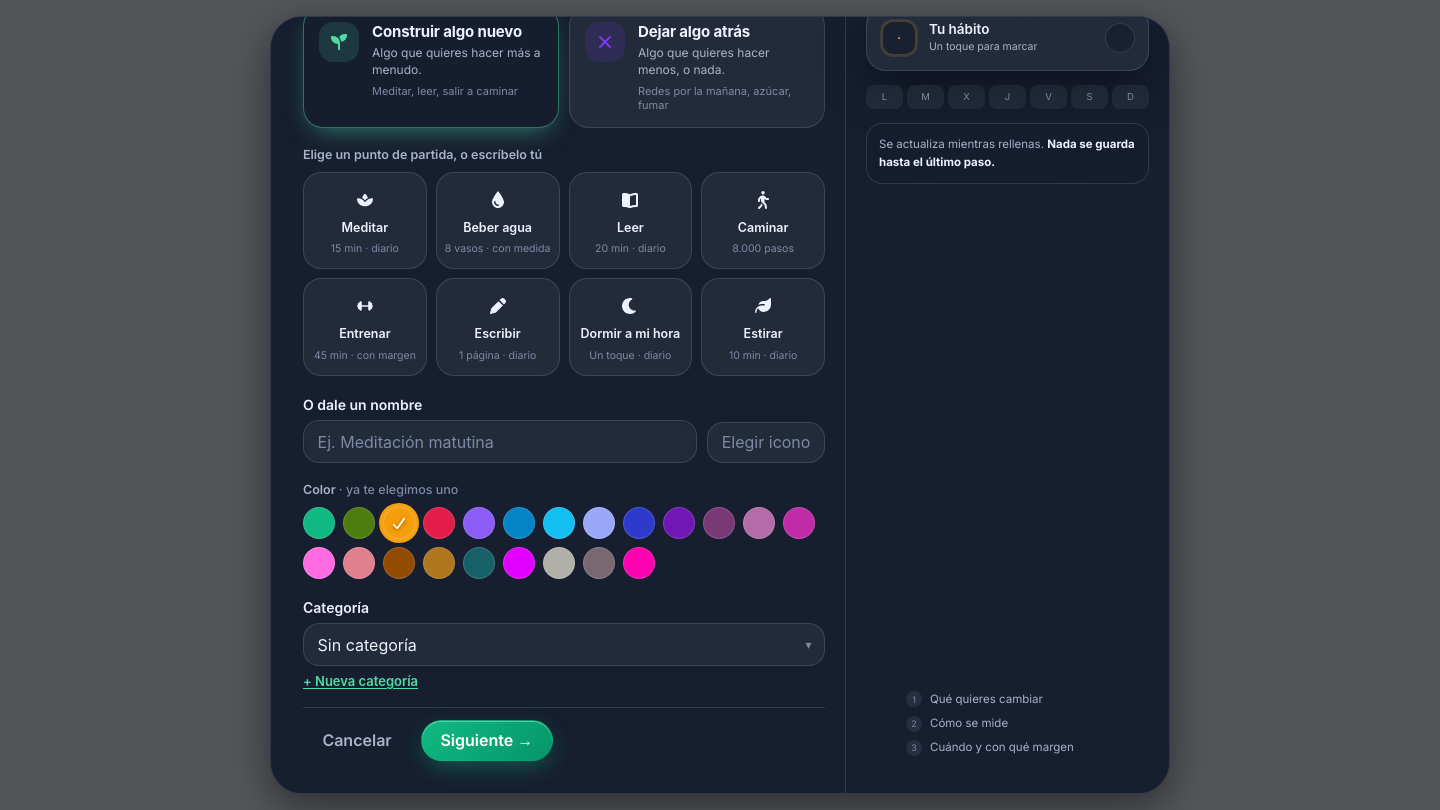
HabitFormModal — crear › pide el nombre y nada más para avanzar
This screenshot has width=1440, height=810.
(page scrolled)
Click the button "Siguiente →" at (487, 740), box top-left (421, 720), bottom-right (553, 760)
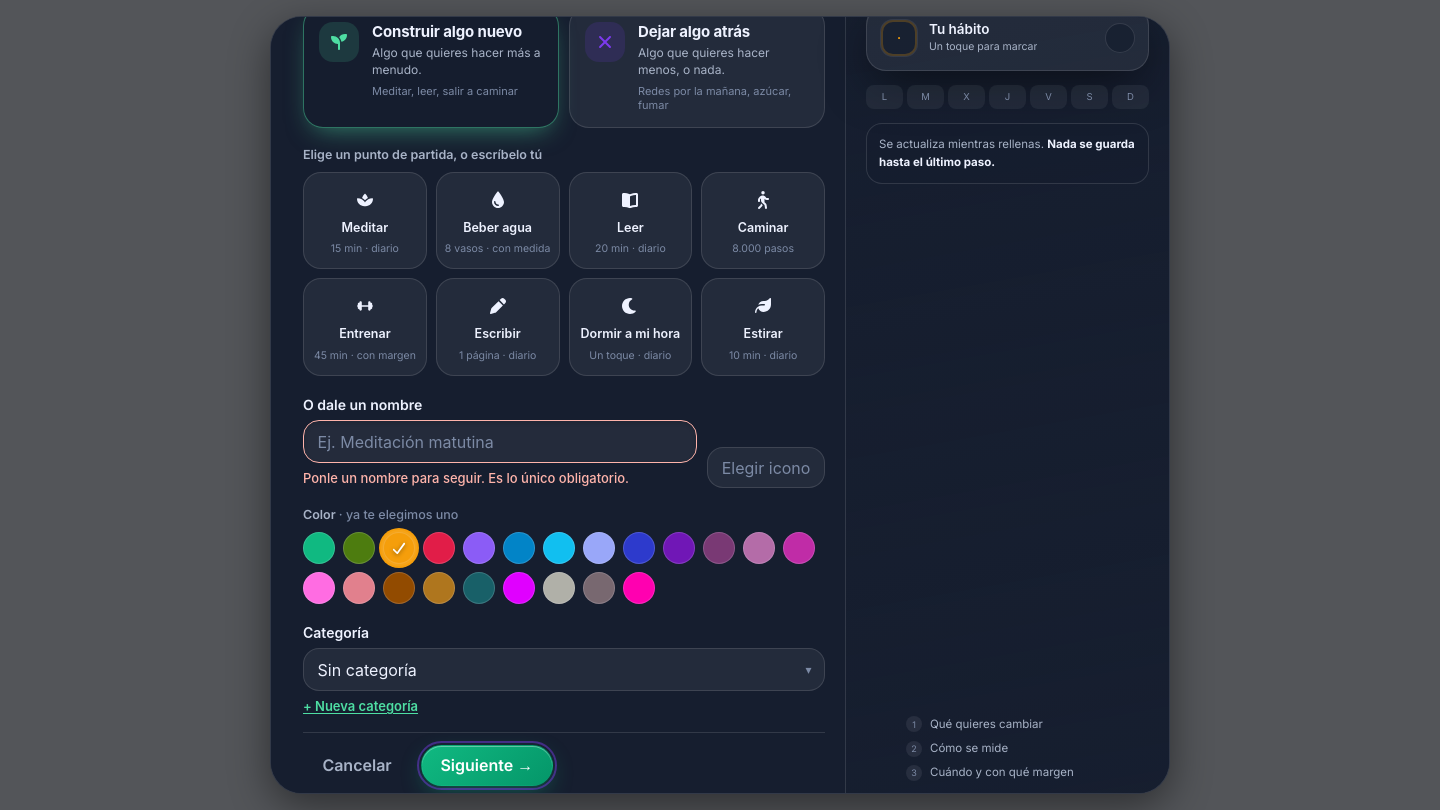
Expected: the text "Ponle un nombre para seguir. Es lo único obligatorio." is shown, top-left (303, 470), bottom-right (629, 486)
Type "Meditar" into the field labelled "O dale un nombre" at (500, 442), box top-left (303, 420), bottom-right (697, 463)
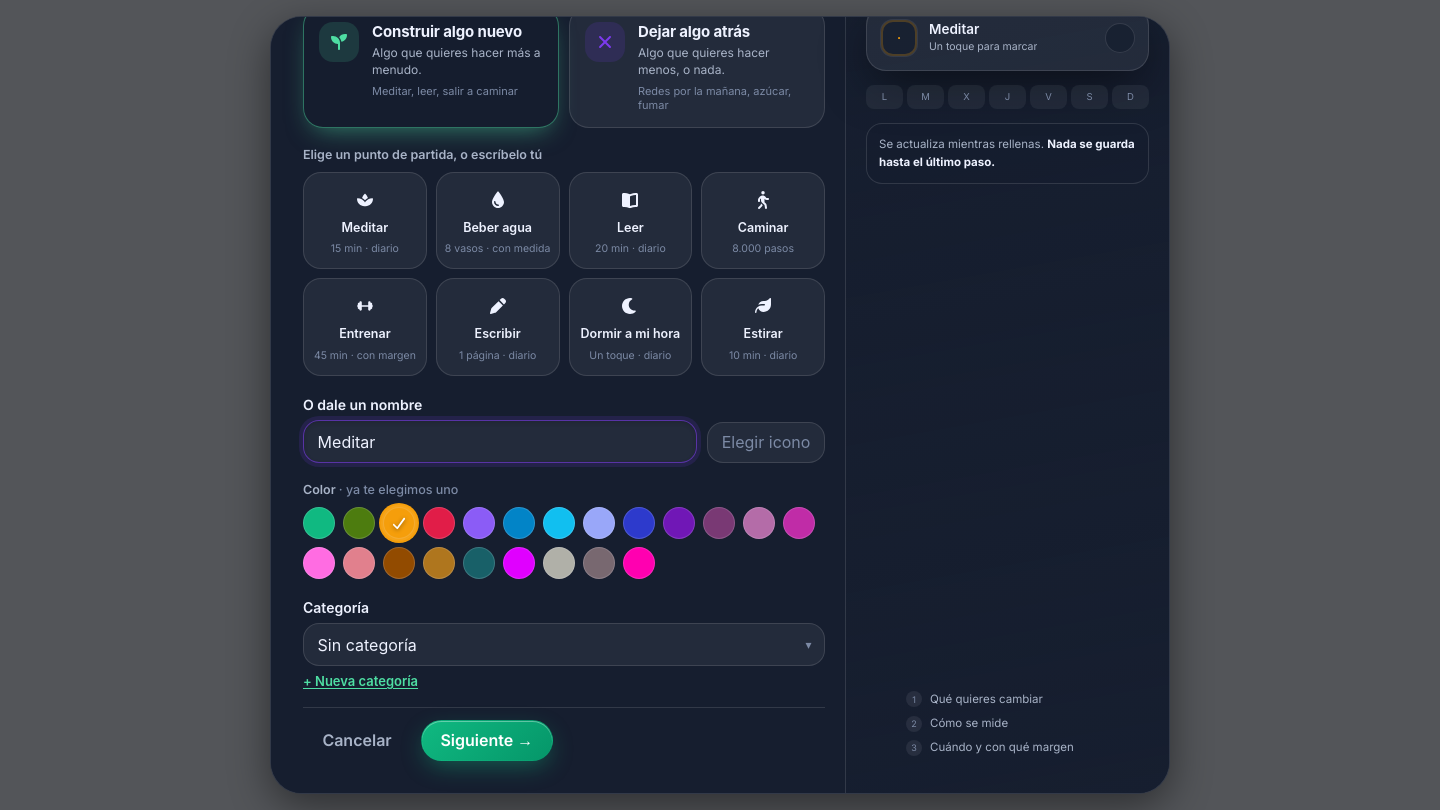
Click the button "Siguiente →" at (487, 740), box top-left (421, 720), bottom-right (553, 760)
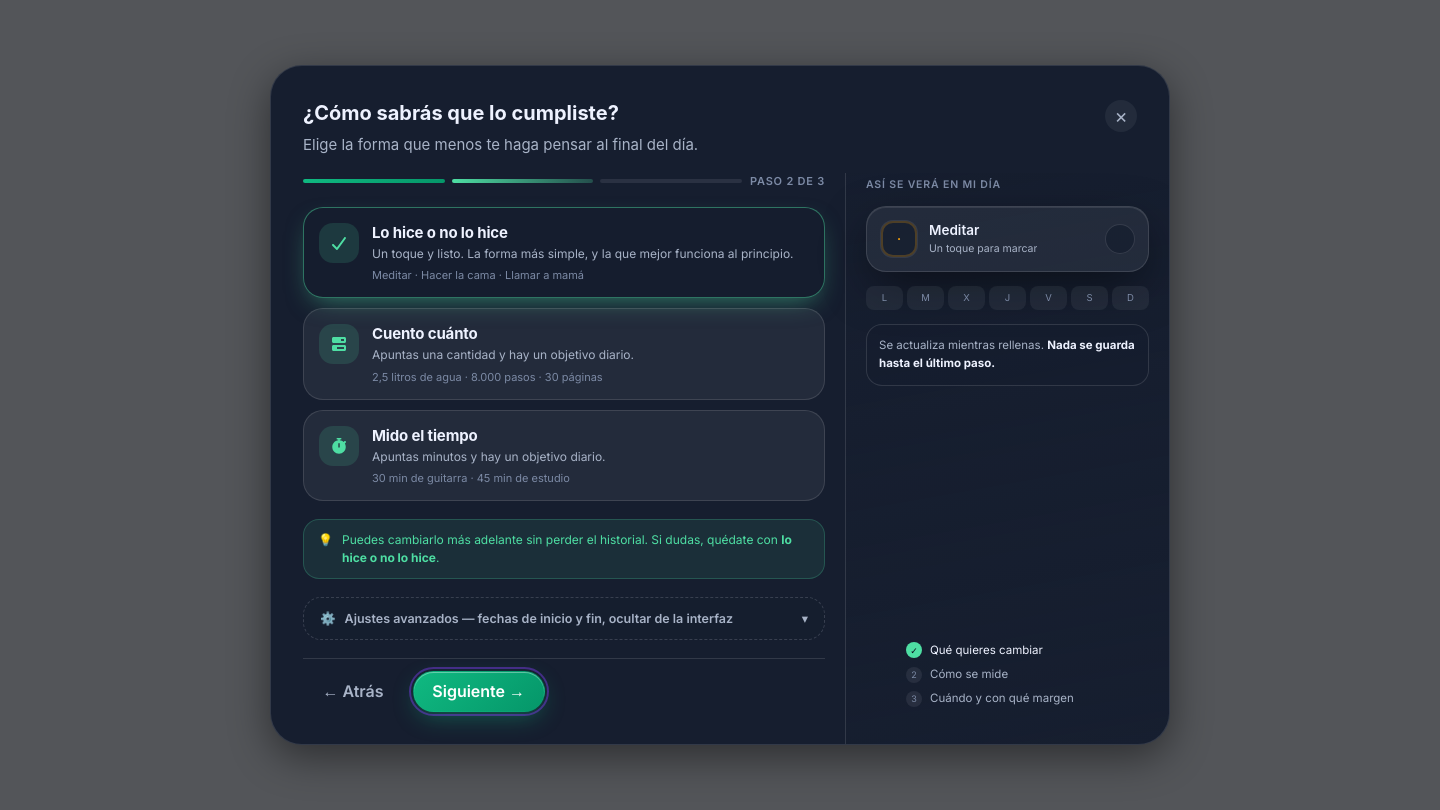
Expected: the heading "¿Cómo sabrás que lo cumpliste?" is shown, top-left (303, 101), bottom-right (619, 125)
